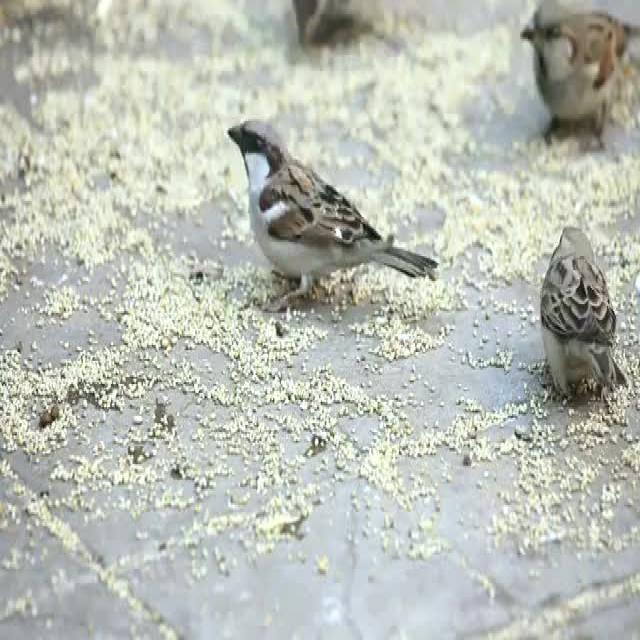bird: (226, 117, 442, 307), (538, 212, 633, 415), (518, 7, 640, 150)
